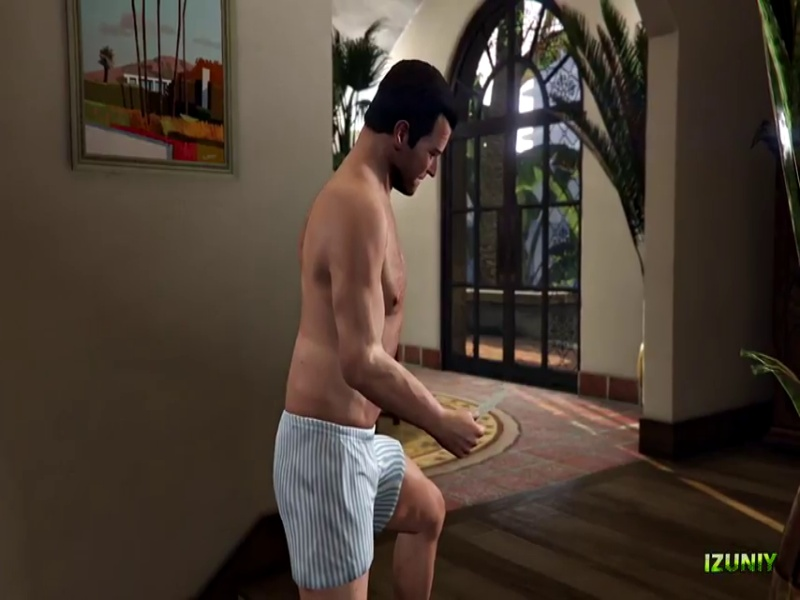human: (284, 81, 498, 594)
